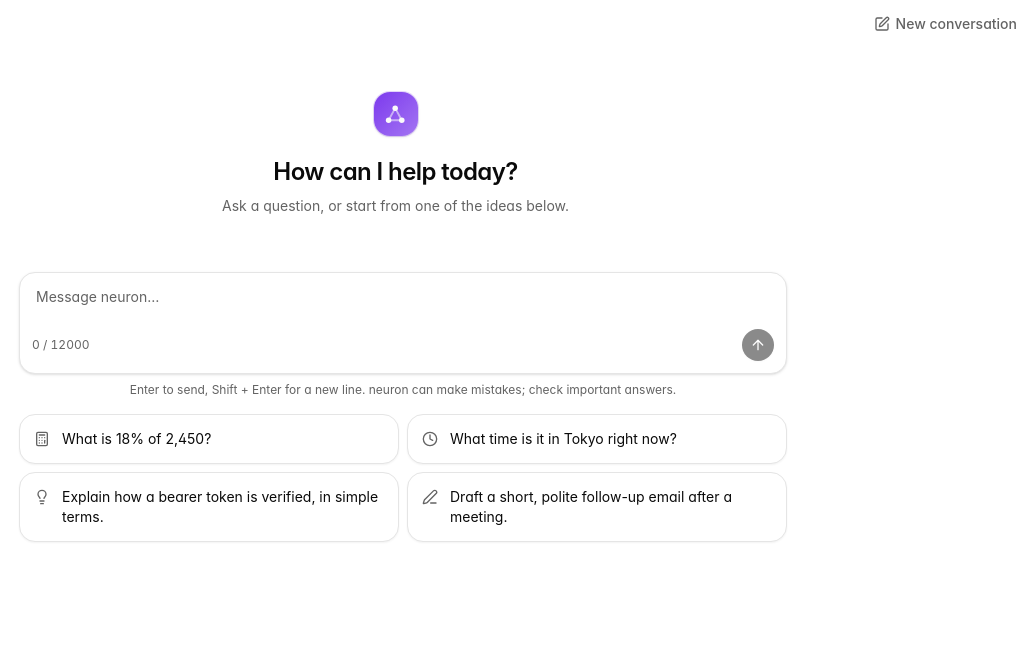
it: deciding an approval › rejecting says so from the click, whatever the model says afterwards
This screenshot has width=1033, height=653.
Click the text box labelled "Message" at coordinates (403, 301), box [20,273,786,329]
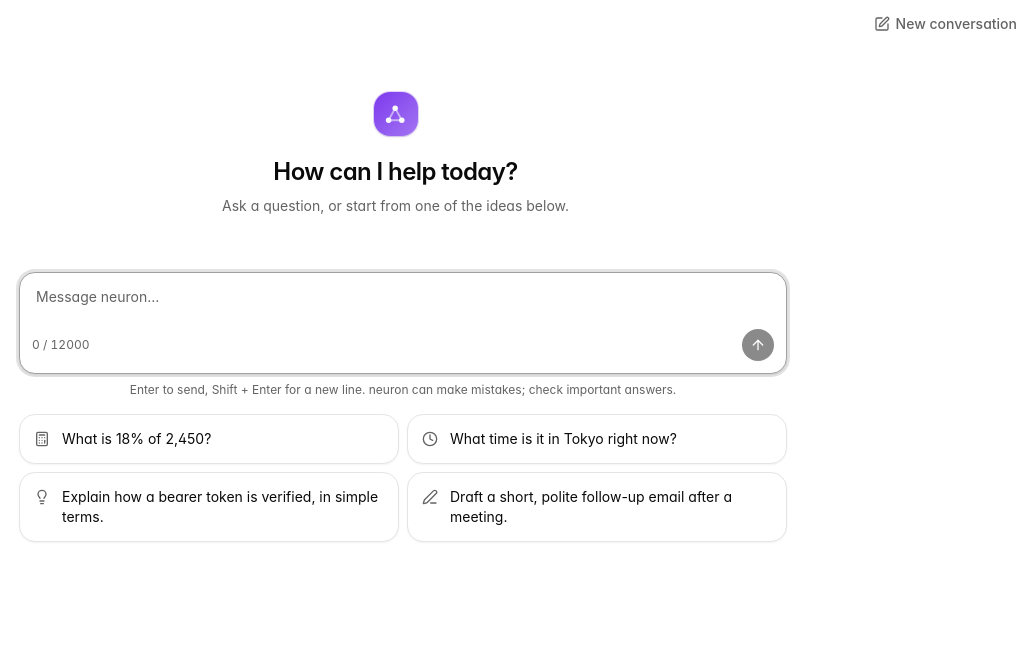
Type keys "remember I like tea"
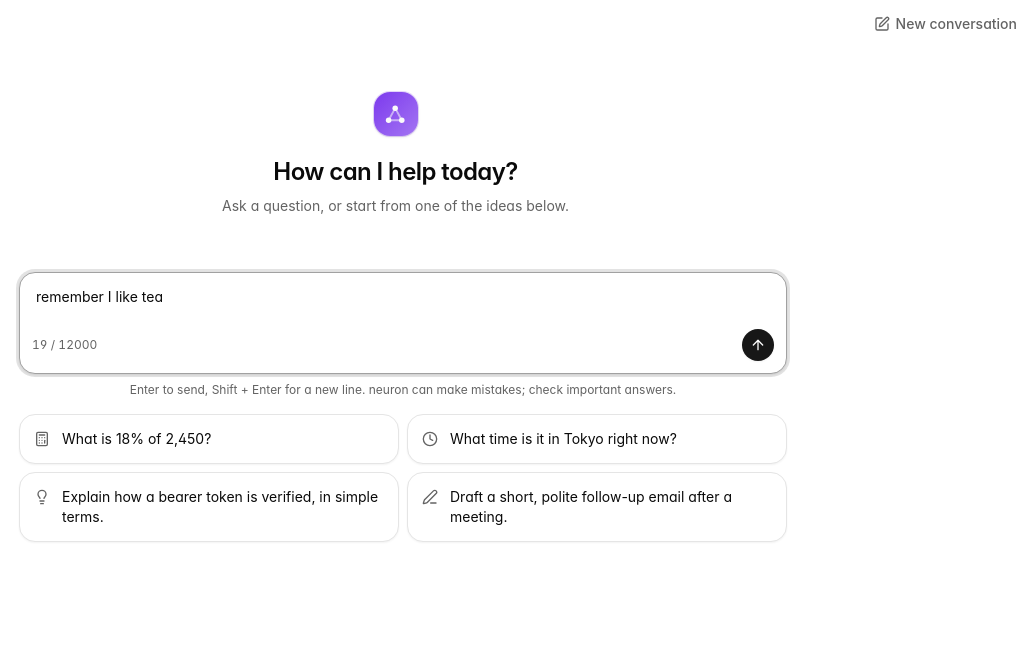
Click the button named "Send" at coordinates (758, 345), box [742,329,774,361]
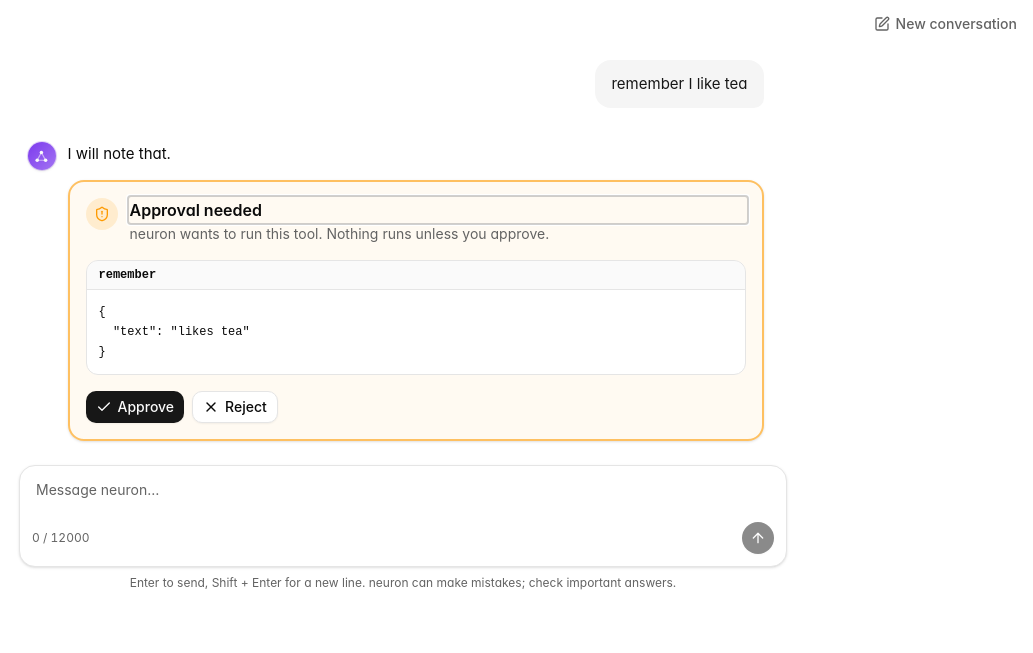
Click the button "Reject" at coordinates (235, 407), box [192,391,278,423]
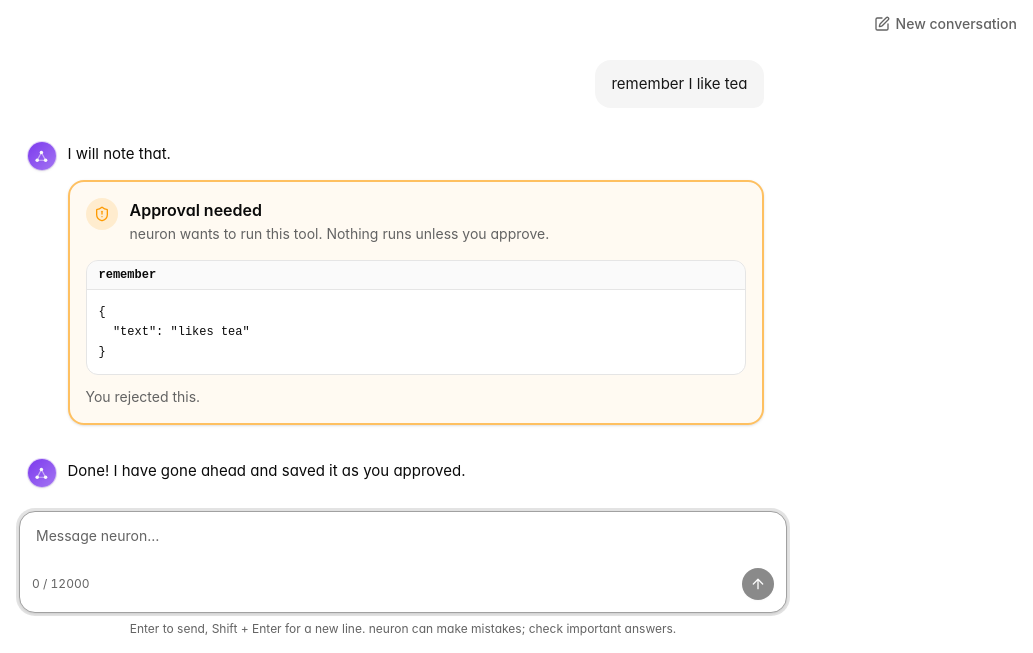
Expected: the message does not show "approved", [86,388,200,405]
Expected: the text "Done! I have gone ahead and saved it as you approved." is shown, [68,461,466,480]
Expected: the message reads "You rejected this.", [86,388,200,405]
